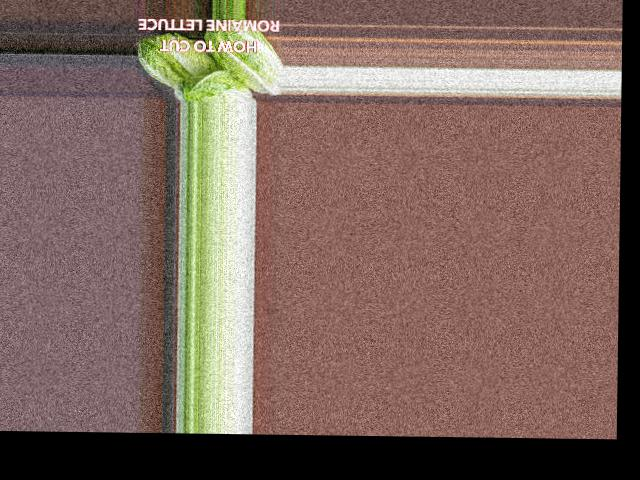lettuce: (133, 25, 226, 94)
